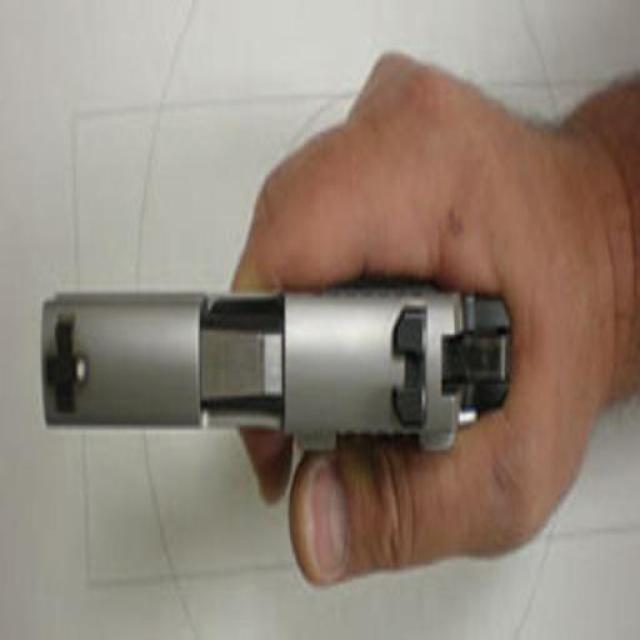pistol: (40, 276, 514, 457)
